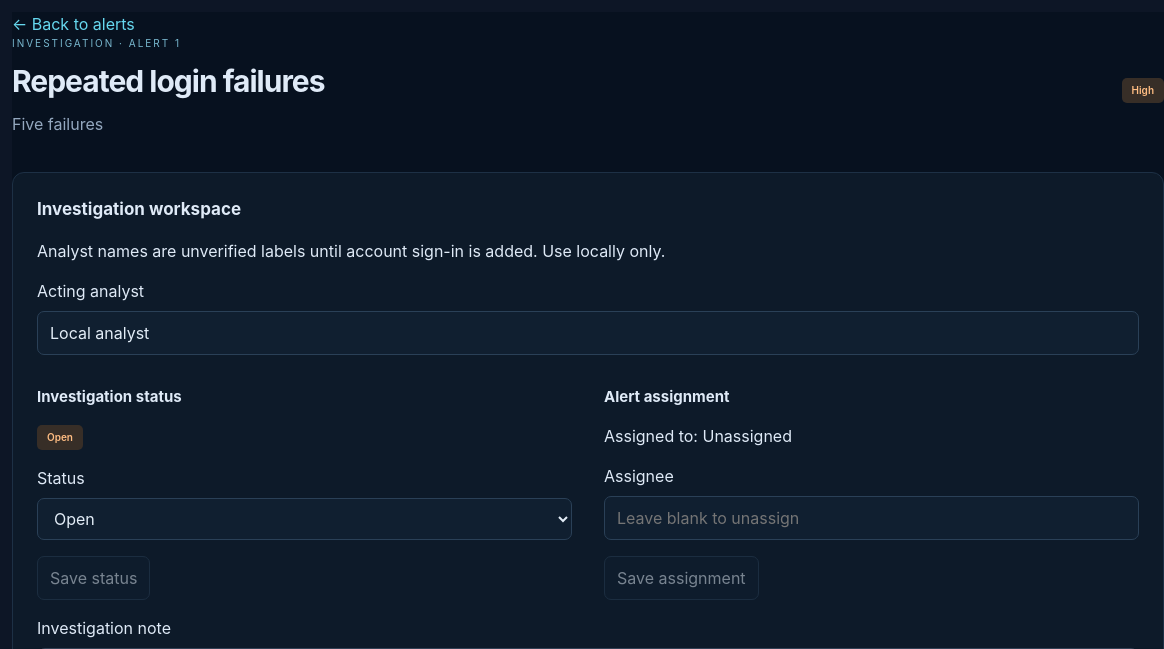
records false positives as resolved with a separate resolution
The width and height of the screenshot is (1164, 649).
Expected: the heading "Repeated login failures" is shown, [12,59,324,104]
Select "False Positive" in the dropdown named "Investigation status" at (304, 519), box [37,498,572,540]
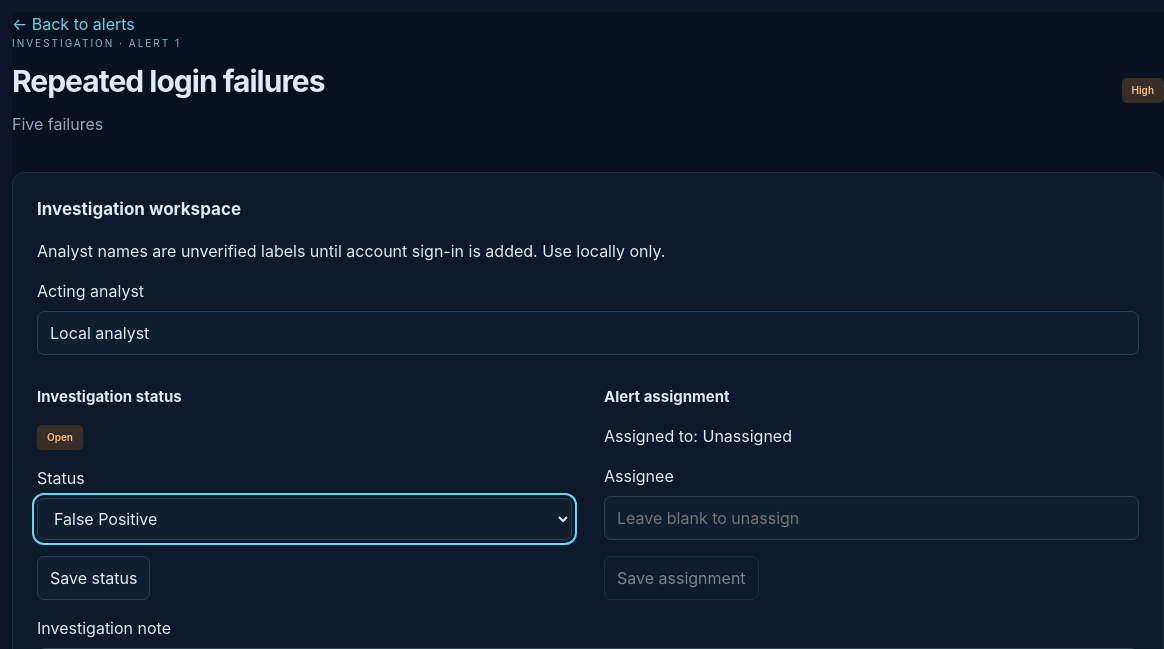
Click the button "Save status" at (94, 578), box [37,556,150,600]
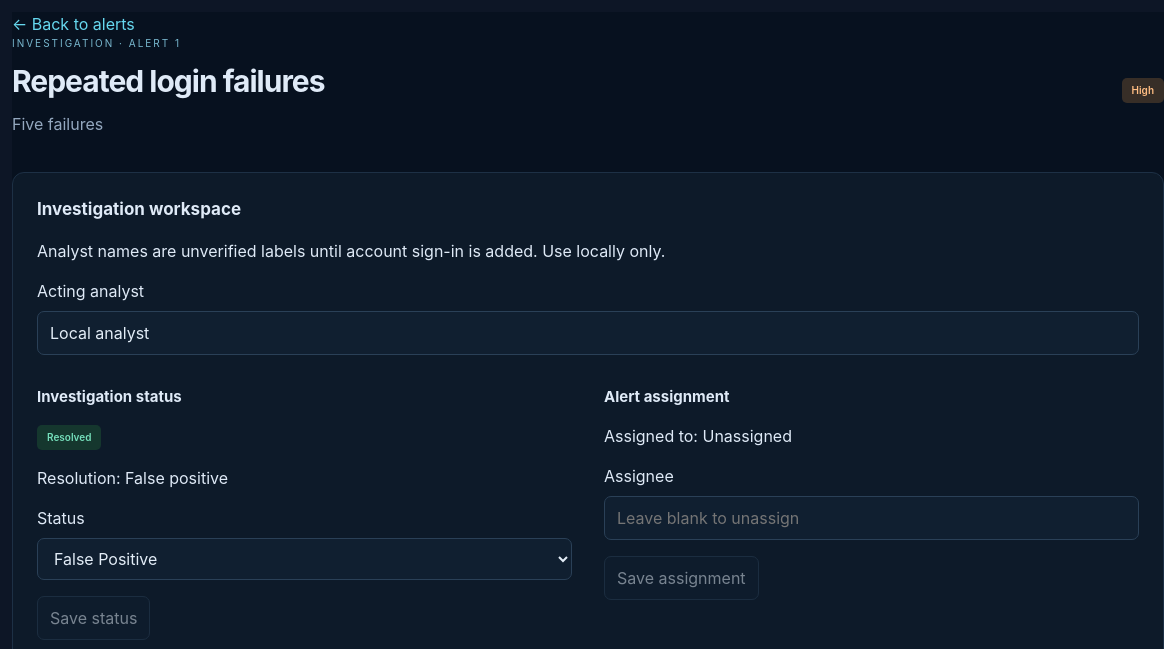
Result: the text "Resolution: False positive" is shown at [37,468,228,488]
